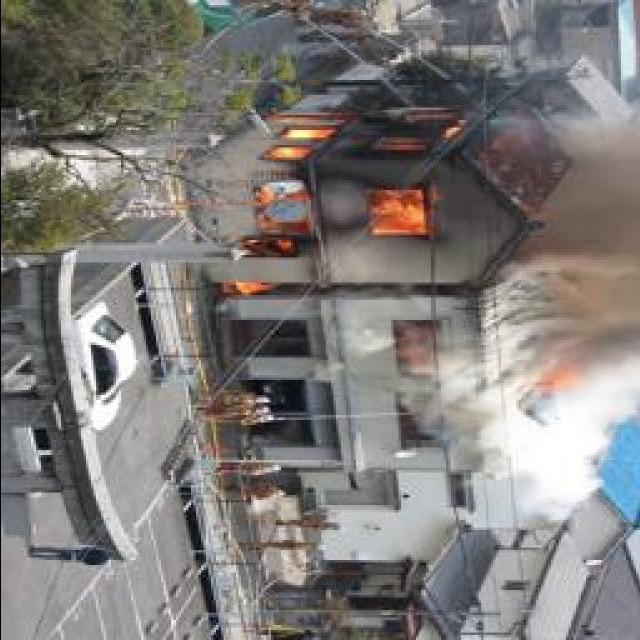Fire: (230, 60, 472, 294)
